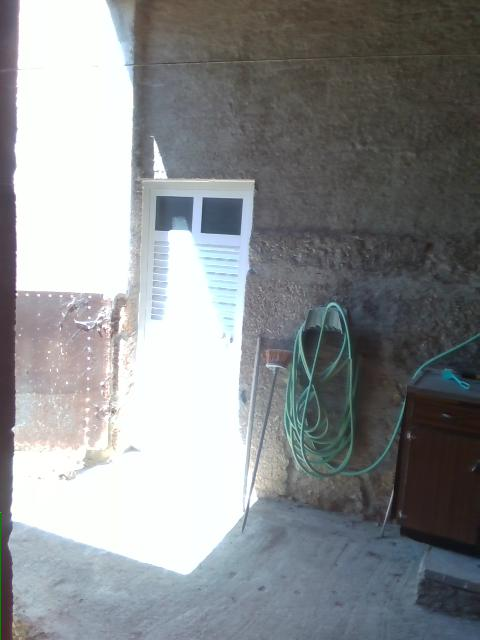door: (130, 175, 255, 462)
